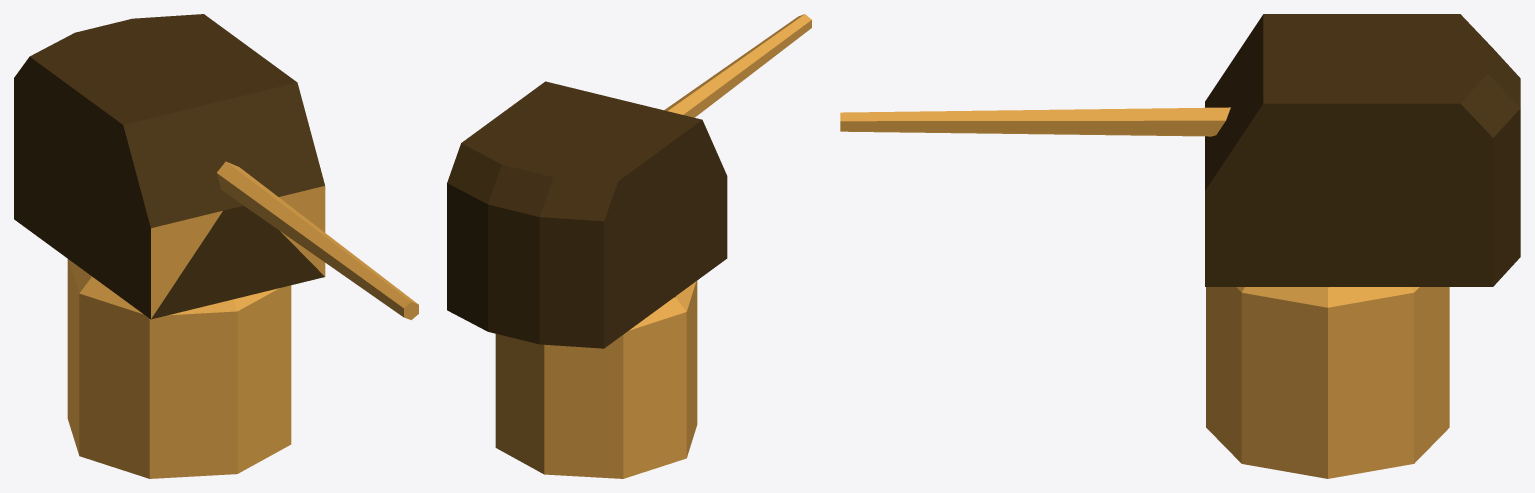
Rendered from navalgun-mark16.fbx.
3 renders of one model, left to right at view 1: azimuth 30°, elevation 25°; view 2: azimuth 150°, elevation 25°; view 3: azimuth 270°, elevation 25°, orthographic. The views are drawn at different scales.
Parts seen in each view (by area): view 1: navalgun-mark16-head, navalgun-mark16-base, navalgun-mark16-gun; view 2: navalgun-mark16-head, navalgun-mark16-base, navalgun-mark16-gun; view 3: navalgun-mark16-head, navalgun-mark16-base, navalgun-mark16-gun.
Part boxes in pixels (x1,y1,x2,y2): navalgun-mark16-head: (14,14,325,319); navalgun-mark16-base: (67,259,291,478); navalgun-mark16-gun: (217,161,418,320); navalgun-mark16-head: (447,81,727,348); navalgun-mark16-base: (495,281,697,478); navalgun-mark16-gun: (664,14,811,117); navalgun-mark16-head: (1205,14,1520,286); navalgun-mark16-base: (1206,287,1449,478); navalgun-mark16-gun: (840,107,1230,136).
Bounding box in the file's own units: 3.45 × 5.76 × 9.64.
